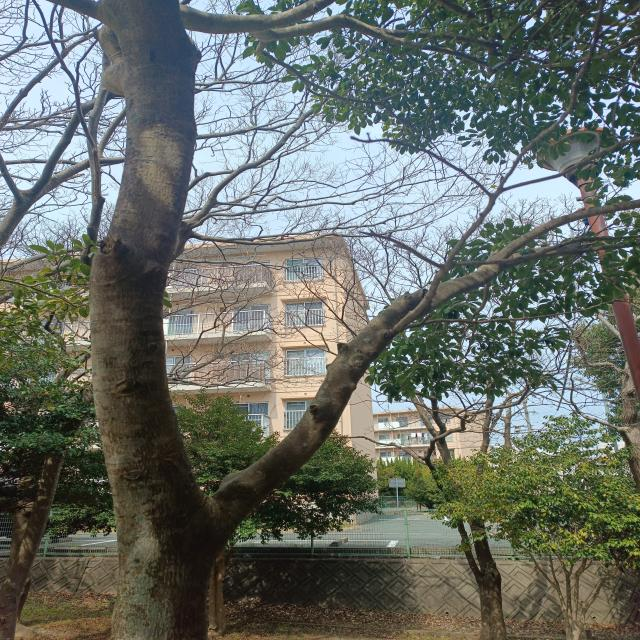Branch: (212, 244, 510, 527), (184, 0, 336, 33), (253, 13, 391, 46)
Twig: (448, 53, 588, 261), (503, 137, 638, 190), (511, 200, 640, 254), (382, 140, 490, 196), (457, 235, 636, 265), (387, 35, 494, 64), (365, 231, 441, 268), (395, 30, 499, 50)
